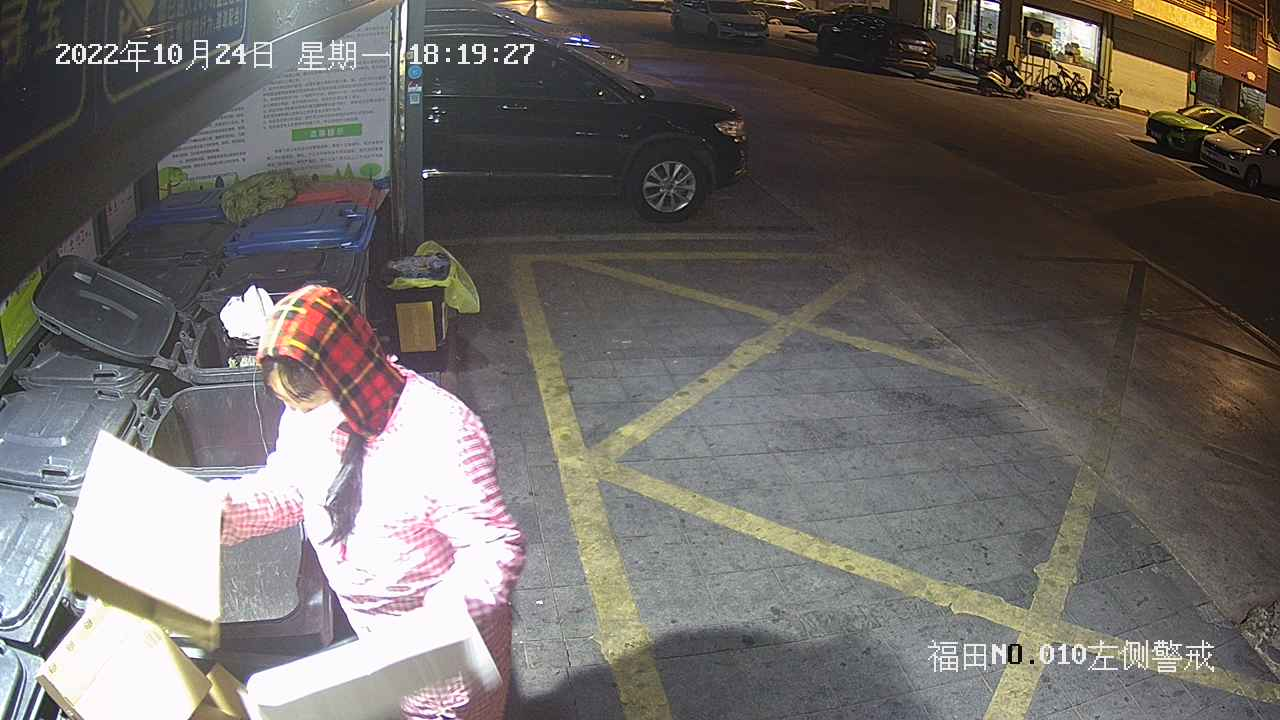person: (207, 282, 528, 720)
zhizhipin: (61, 424, 227, 656), (239, 598, 470, 719)
